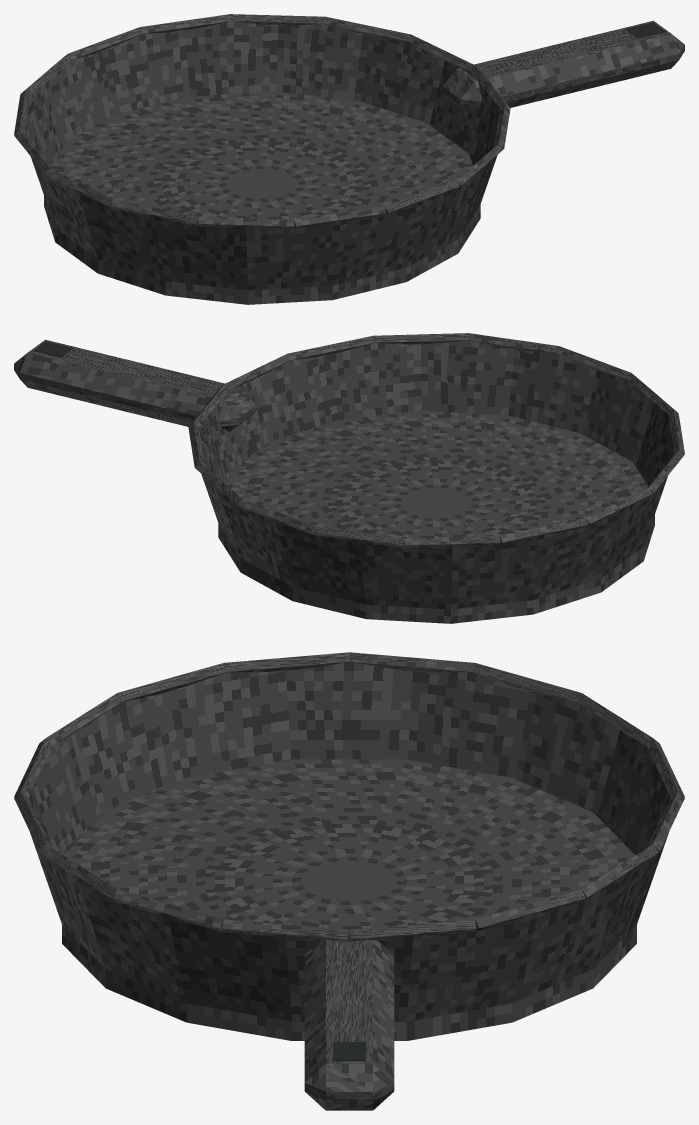
The model's file is pan.glb.
The picture shows the model from 3 angles, top to bottom: view 1: azimuth 30°, elevation 25°; view 2: azimuth 150°, elevation 25°; view 3: azimuth 270°, elevation 25°; orthographic projection. The views are drawn at different scales.
Parts seen in each view (by area): view 1: block_flared wall, block_cast iron bottom, block_integral handle, block_rim 5, block_rim 4, block_rim 13, block_rim 6, block_rim 12, block_rim 14, block_rim 3, block_rim 11, block_rim 7 (+7 smaller); view 2: block_flared wall, block_cast iron bottom, block_integral handle, block_rim 10, block_rim 11, block_rim 2, block_rim 9, block_rim 3, block_rim 1, block_rim 12, block_rim 4, block_rim 8 (+7 smaller); view 3: block_flared wall, block_cast iron bottom, block_integral handle, block_rim 0, block_rim 15, block_rim 7, block_rim 8, block_rim 1, block_rim 14, block_rim 6, block_rim 9, block_rim 2 (+7 smaller).
Part boxes in pixels (x1,y1,x2,y2): block_flared wall: (24, 21, 499, 290); block_cast iron bottom: (44, 91, 480, 304); block_integral handle: (443, 20, 684, 112); block_rim 5: (198, 217, 294, 228); block_rim 4: (294, 206, 386, 228); block_rim 13: (230, 14, 325, 25); block_rim 6: (111, 199, 198, 226); block_rim 12: (140, 14, 230, 33); block_rim 14: (324, 17, 410, 41); block_rim 3: (385, 180, 459, 215); block_rim 11: (68, 27, 142, 59); block_rim 7: (46, 168, 112, 207); block_flared wall: (199, 340, 674, 609); block_cast iron bottom: (218, 410, 654, 623); block_integral handle: (14, 339, 255, 431); block_rim 10: (404, 536, 500, 547); block_rim 11: (312, 525, 404, 547); block_rim 2: (373, 333, 468, 344); block_rim 9: (500, 518, 587, 545); block_rim 3: (468, 333, 558, 352); block_rim 1: (288, 336, 374, 360); block_rim 12: (239, 499, 313, 534); block_rim 4: (556, 346, 630, 378); block_rim 8: (586, 487, 652, 526); block_flared wall: (28, 662, 670, 1021); block_cast iron bottom: (62, 759, 636, 1040); block_integral handle: (304, 939, 394, 1110); block_rim 0: (222, 919, 349, 941); block_rim 15: (349, 919, 476, 941); block_rim 7: (224, 652, 349, 672); block_rim 8: (349, 652, 474, 672); block_rim 1: (113, 889, 223, 931); block_rim 14: (475, 889, 585, 931); block_rim 6: (117, 663, 226, 701); block_rim 9: (472, 663, 581, 701); block_rim 2: (40, 844, 116, 901).
Bounding box in the file's own units: 0.4129 × 0.06 × 0.2839.
Materials: 2 (2 with a texture image).
